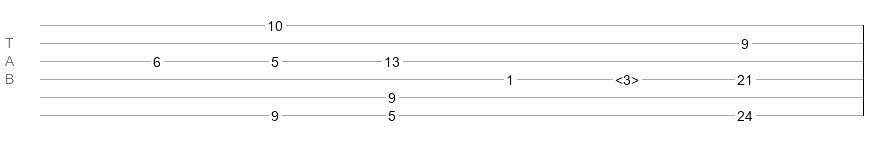1: (506, 72, 514, 82)
10: (267, 18, 283, 28)
13: (384, 54, 400, 64)
21: (737, 72, 753, 82)
24: (737, 108, 753, 118)
5: (271, 54, 279, 64), (388, 108, 396, 118)
6: (153, 54, 161, 64)
9: (271, 108, 279, 118), (388, 90, 396, 100), (741, 36, 749, 46)
harmonic: (615, 72, 639, 82)
